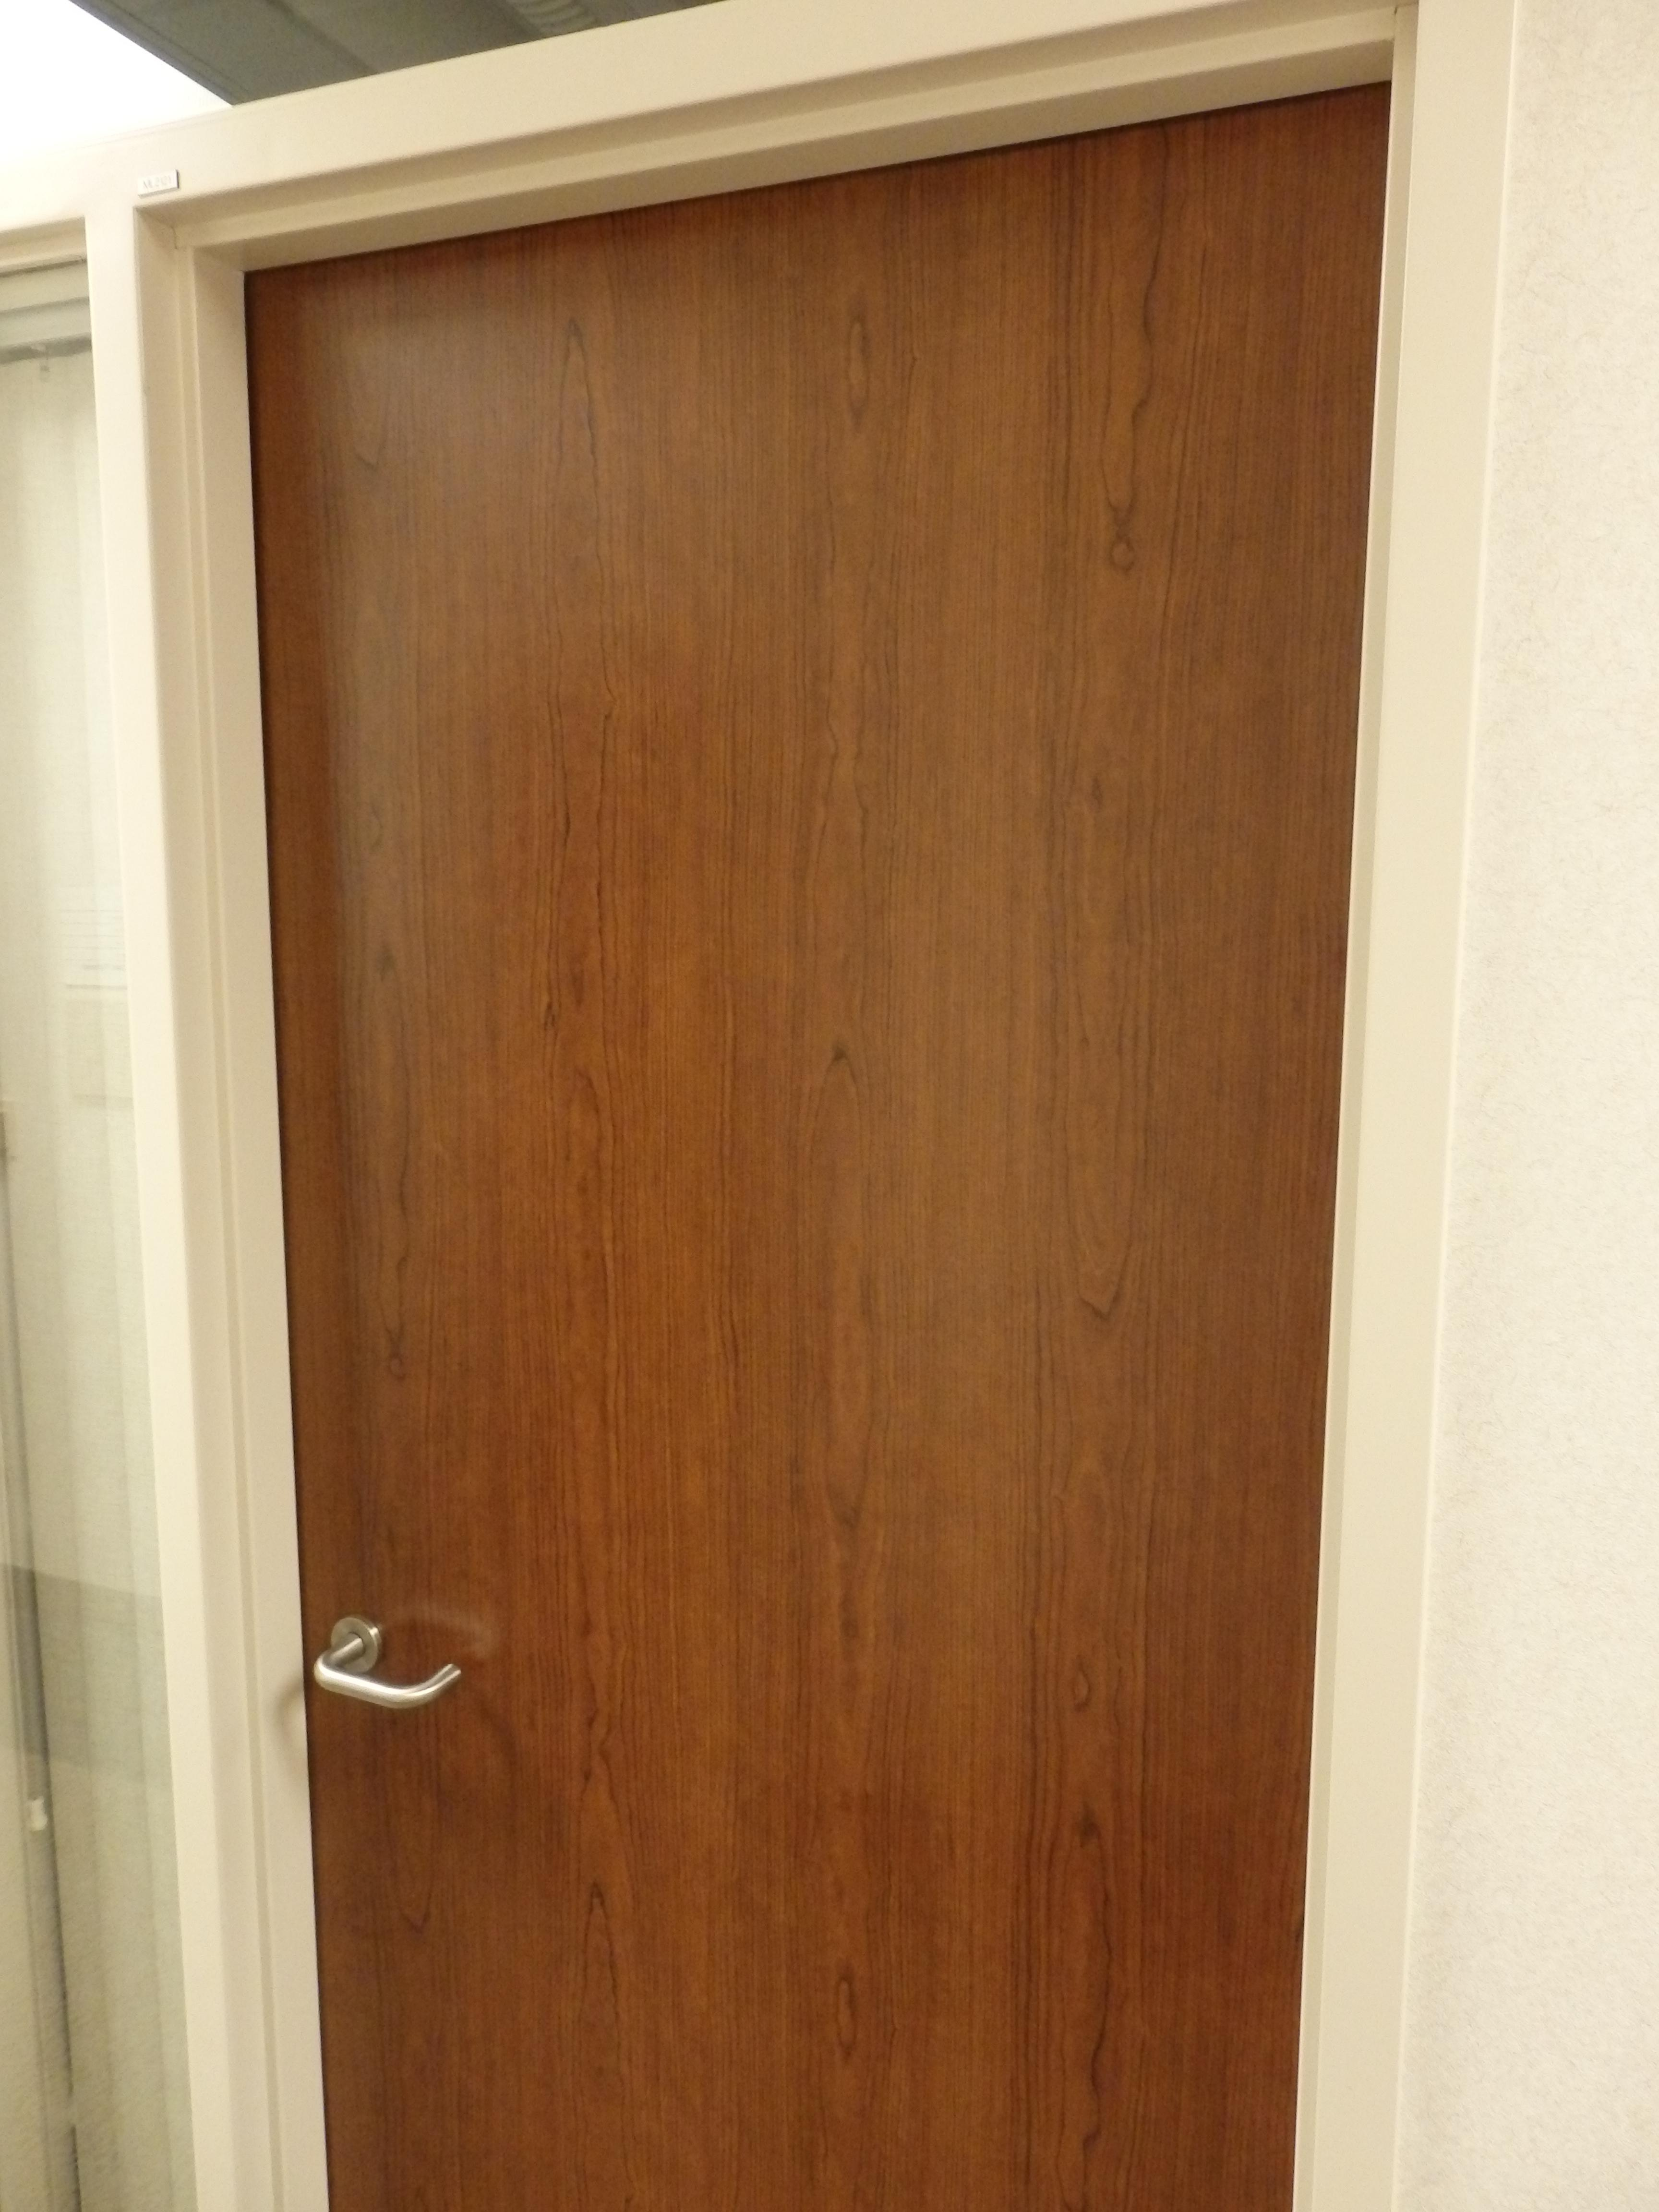handle: (310, 1601, 465, 1733)
